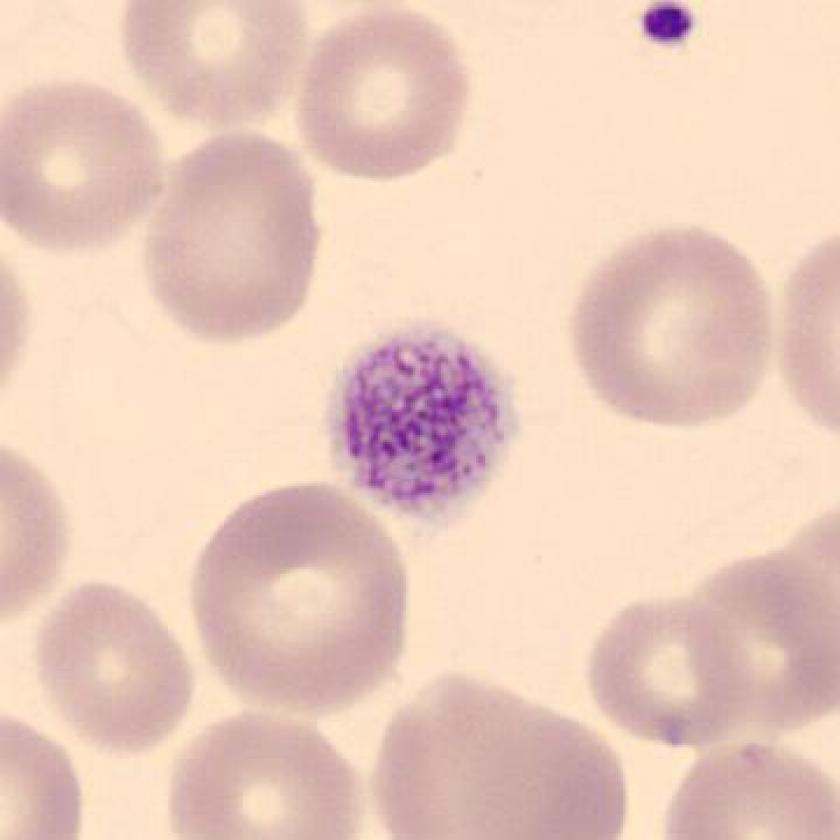platelets: (321, 314, 533, 536), (624, 1, 715, 54)
